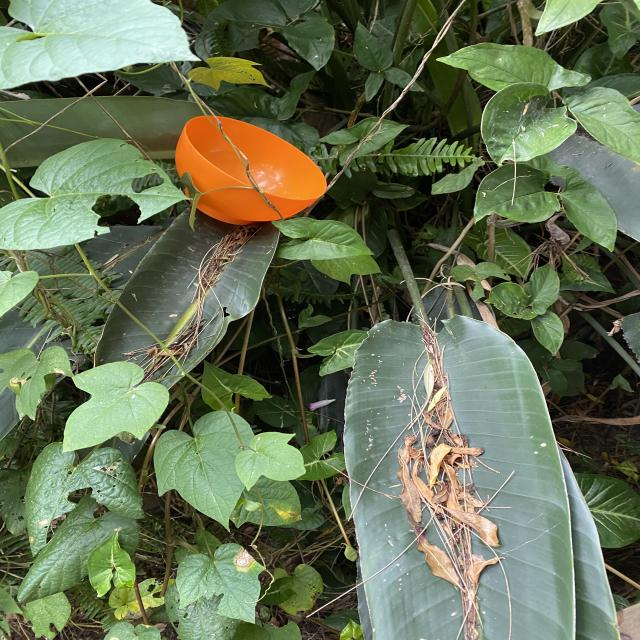bowl: (175, 114, 327, 226)
